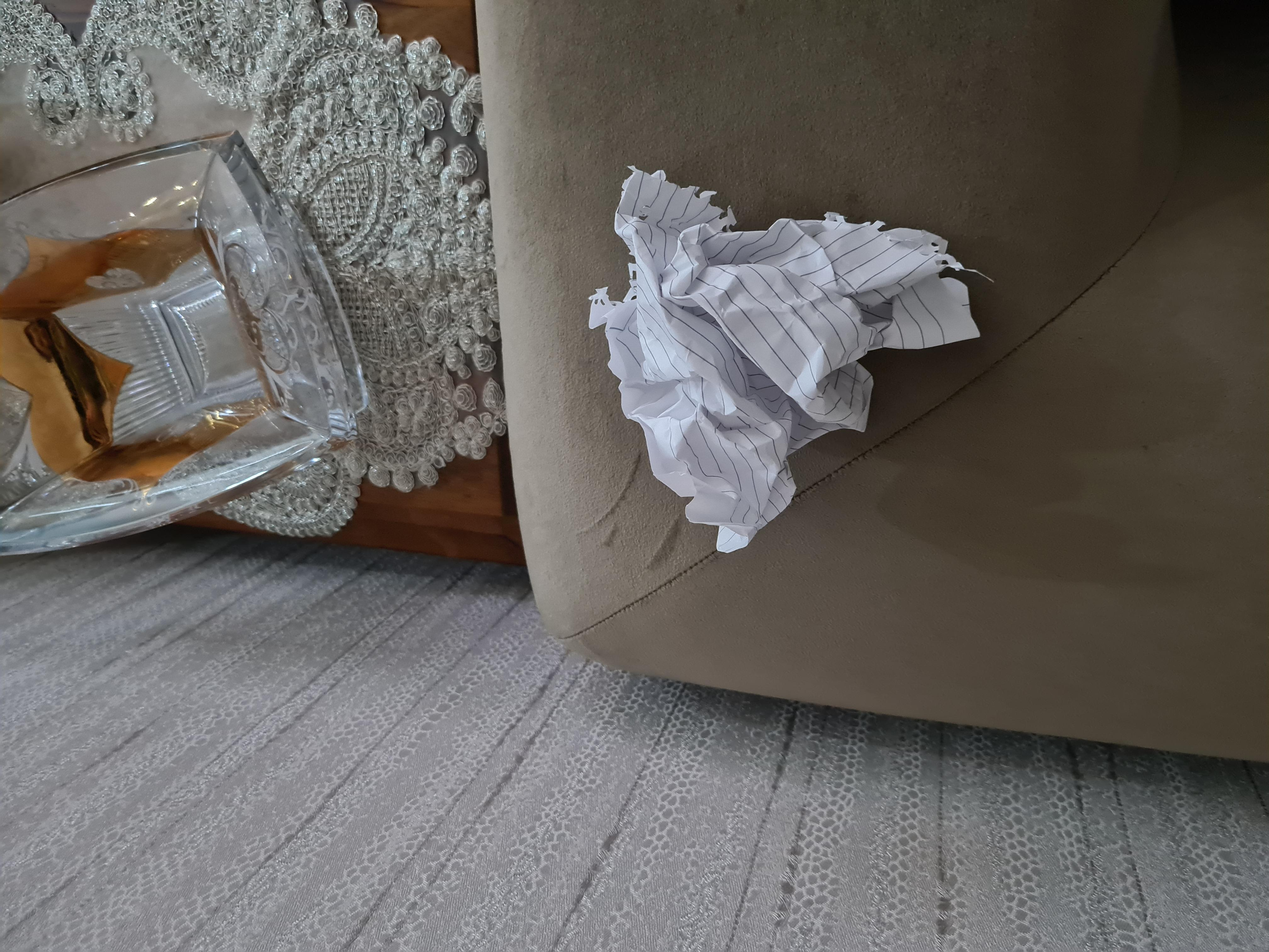paper: (534, 440, 1063, 735)
